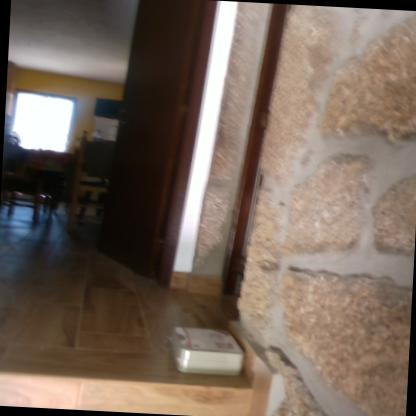open: (0, 0, 204, 293)
